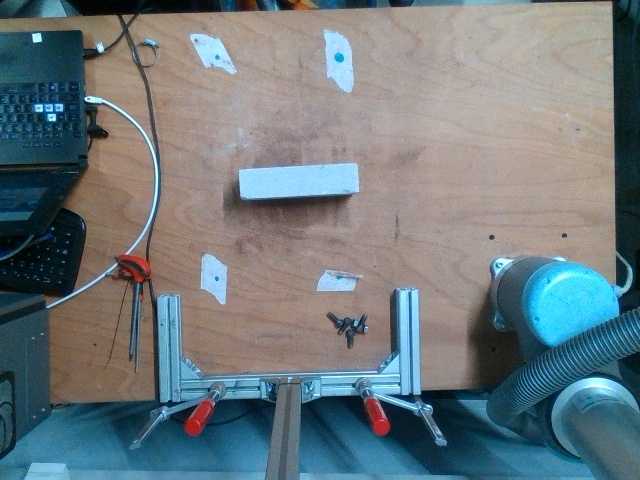brick-side: (238, 161, 358, 199)
